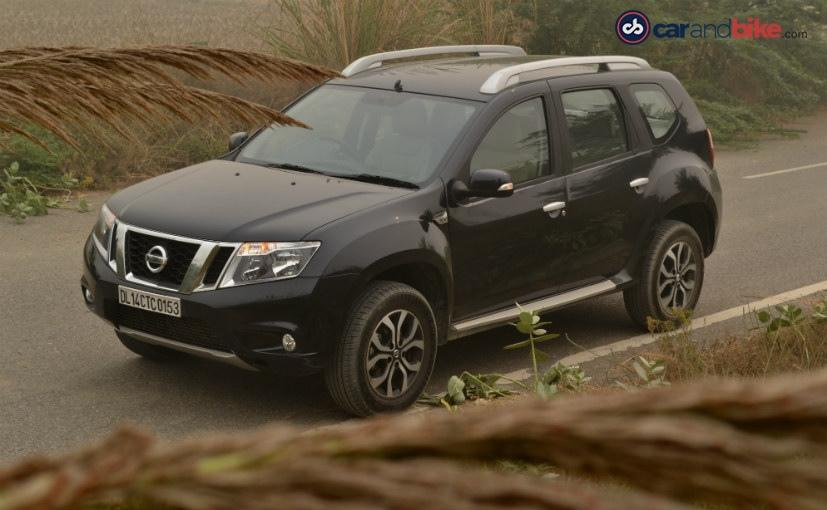License-Plate: (109, 282, 188, 321)
